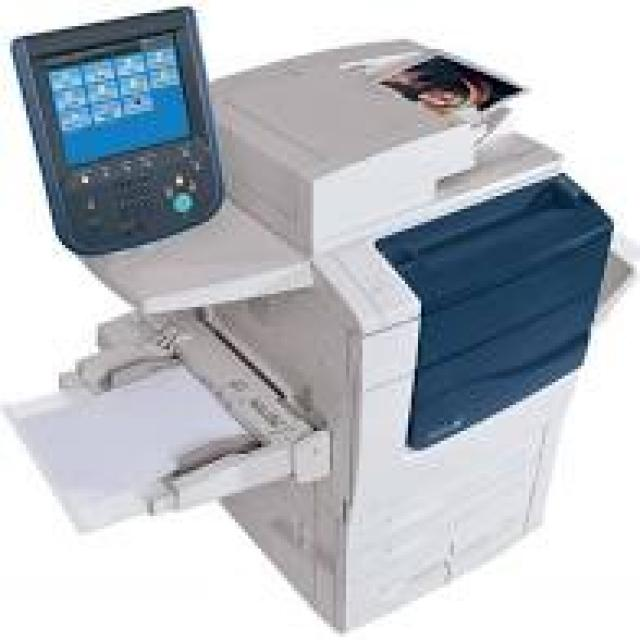printer: (0, 13, 637, 637)
